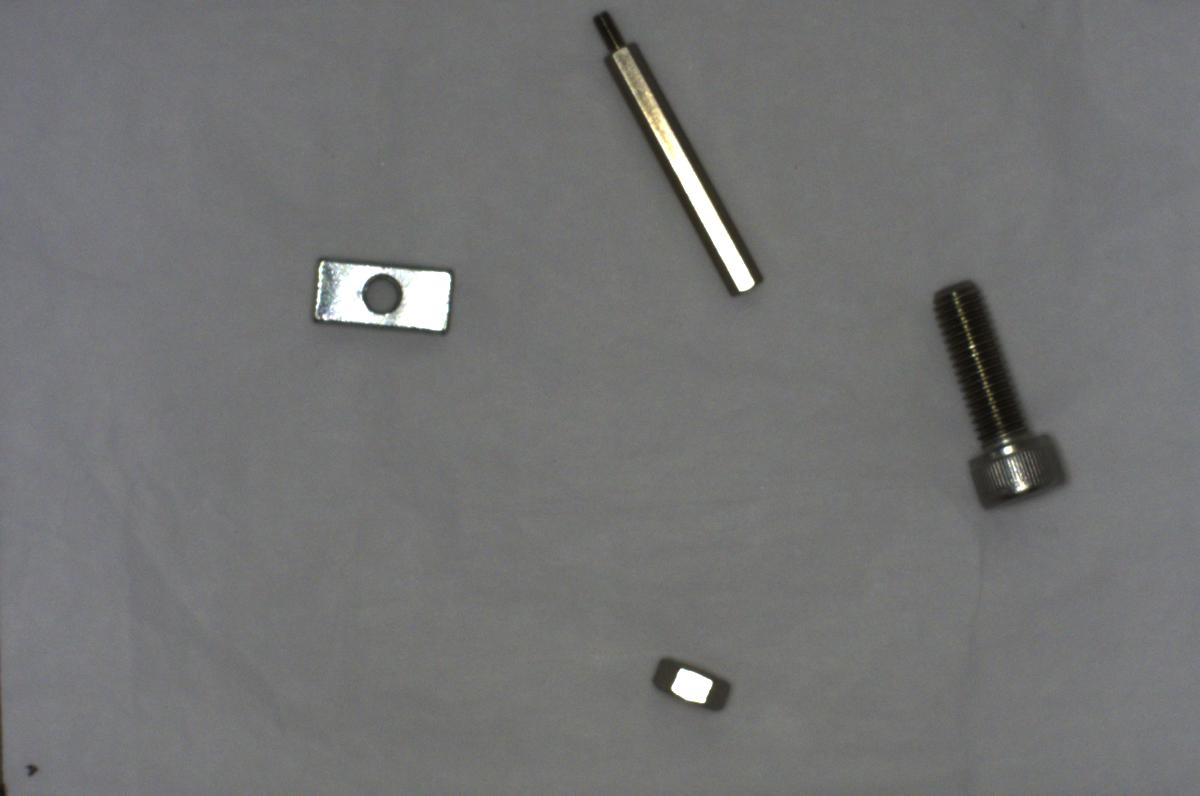Hexagon nut: (647, 649, 738, 720)
Hexagon screw: (924, 269, 1073, 523)
Hexagonal steel column: (582, 7, 774, 308)
Rectangular nut: (298, 248, 460, 341)
